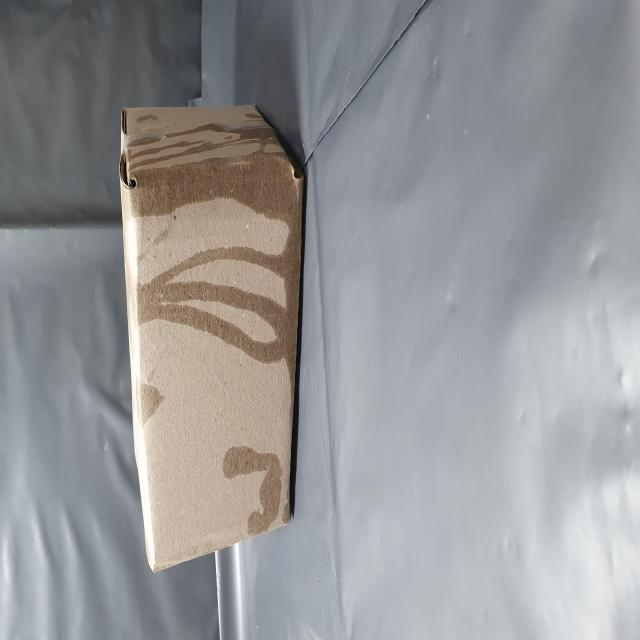wet: (145, 248, 261, 524), (53, 384, 116, 506)
